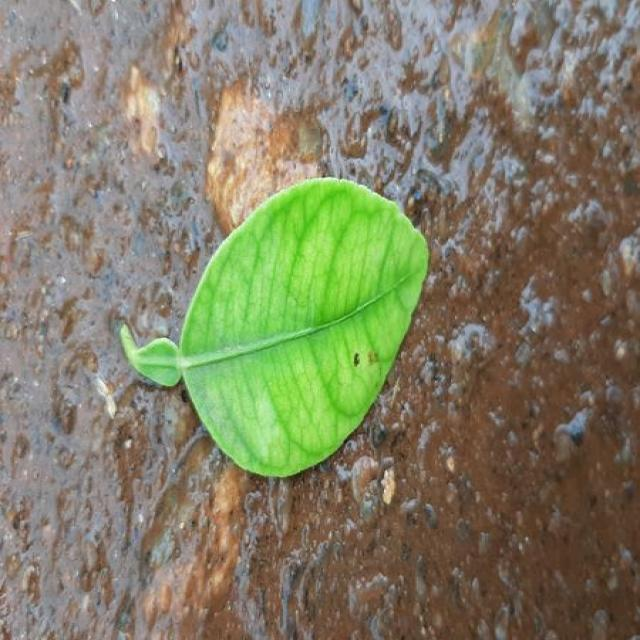lemon: (120, 178, 428, 477)
